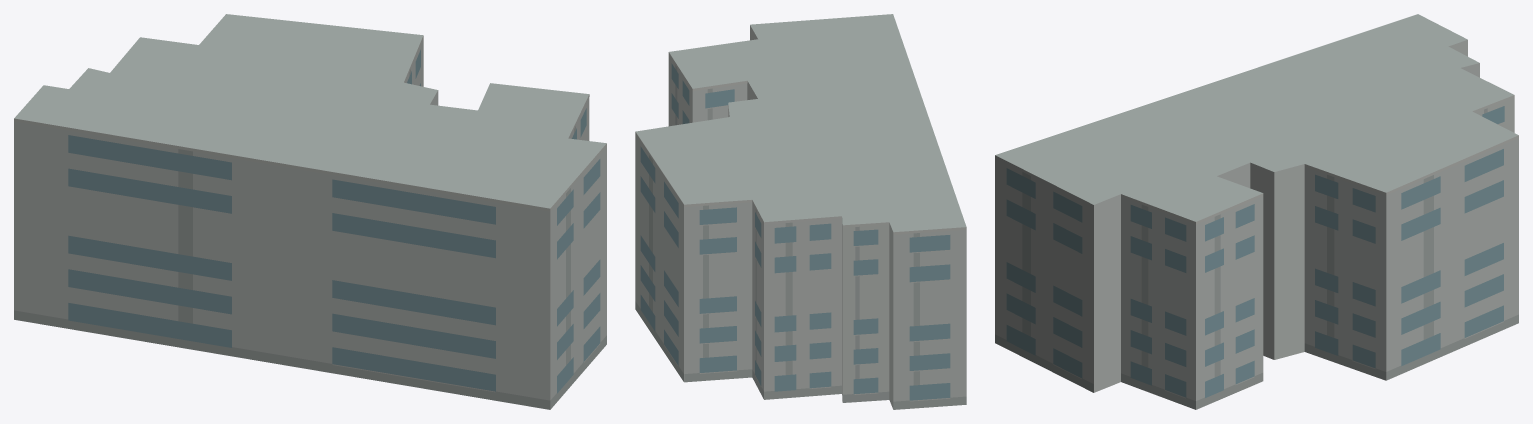
The model's file is survey-upis-32578667.glb.
3 renders of one model, left to right at view 1: azimuth 30°, elevation 25°; view 2: azimuth 150°, elevation 25°; view 3: azimuth 270°, elevation 25°, orthographic. The views are drawn at different scales.
Parts seen in each view (by area): view 1: survey-upis-32578667.tmp; view 2: survey-upis-32578667.tmp; view 3: survey-upis-32578667.tmp.
Boxes of the visible parts, x1=… form: survey-upis-32578667.tmp: x1=14, y1=14, x2=606, y2=409; survey-upis-32578667.tmp: x1=635, y1=14, x2=966, y2=409; survey-upis-32578667.tmp: x1=995, y1=14, x2=1518, y2=409.
Bounding box in the file's own units: 39.87 × 16.8 × 42.44.
